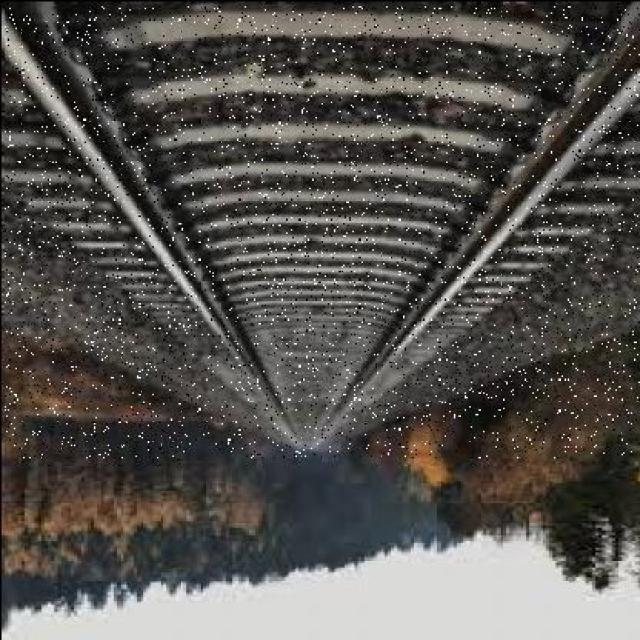rail: (4, 5, 638, 456)
